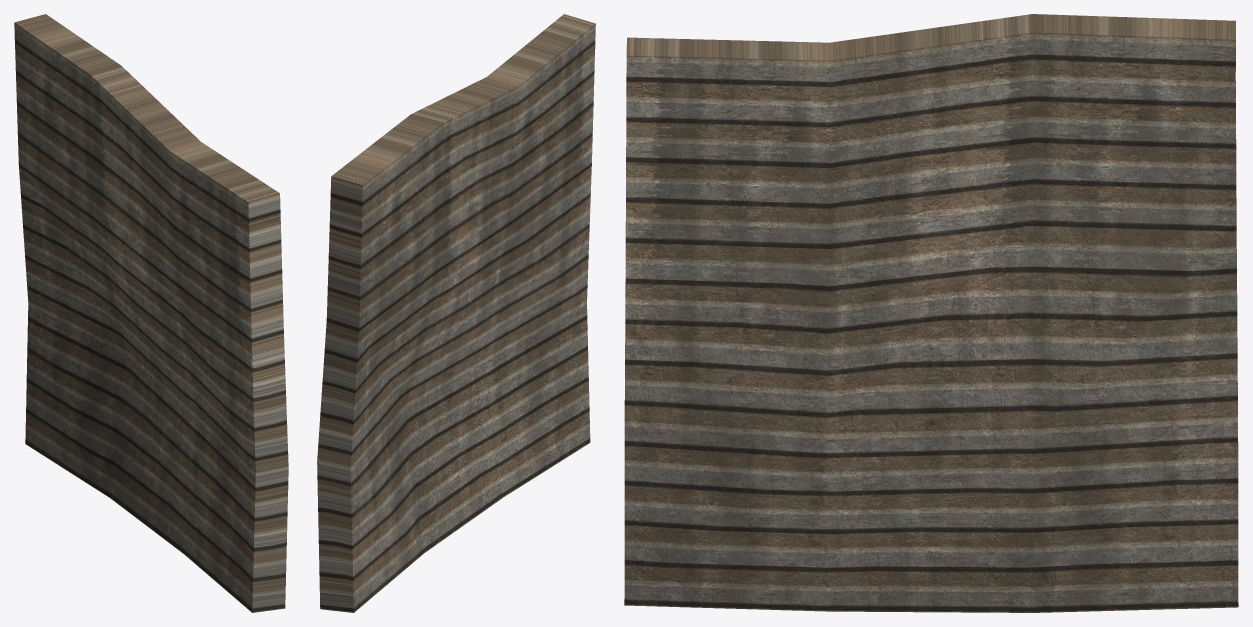
3 renders of one model, left to right at view 1: azimuth 30°, elevation 25°; view 2: azimuth 150°, elevation 25°; view 3: azimuth 270°, elevation 25°, orthographic. The views are drawn at different scales.
Parts seen in each view (by area): view 1: Cube003_Material002_0; view 2: Cube003_Material002_0; view 3: Cube003_Material002_0.
Part boxes in pixels (x1,y1,x2,y2): Cube003_Material002_0: (14, 14, 288, 612); Cube003_Material002_0: (317, 14, 595, 612); Cube003_Material002_0: (624, 14, 1238, 612).
Size of the model in its own units: 0.4224 by 2.57 by 2.52.
1 material, 1 textured.
